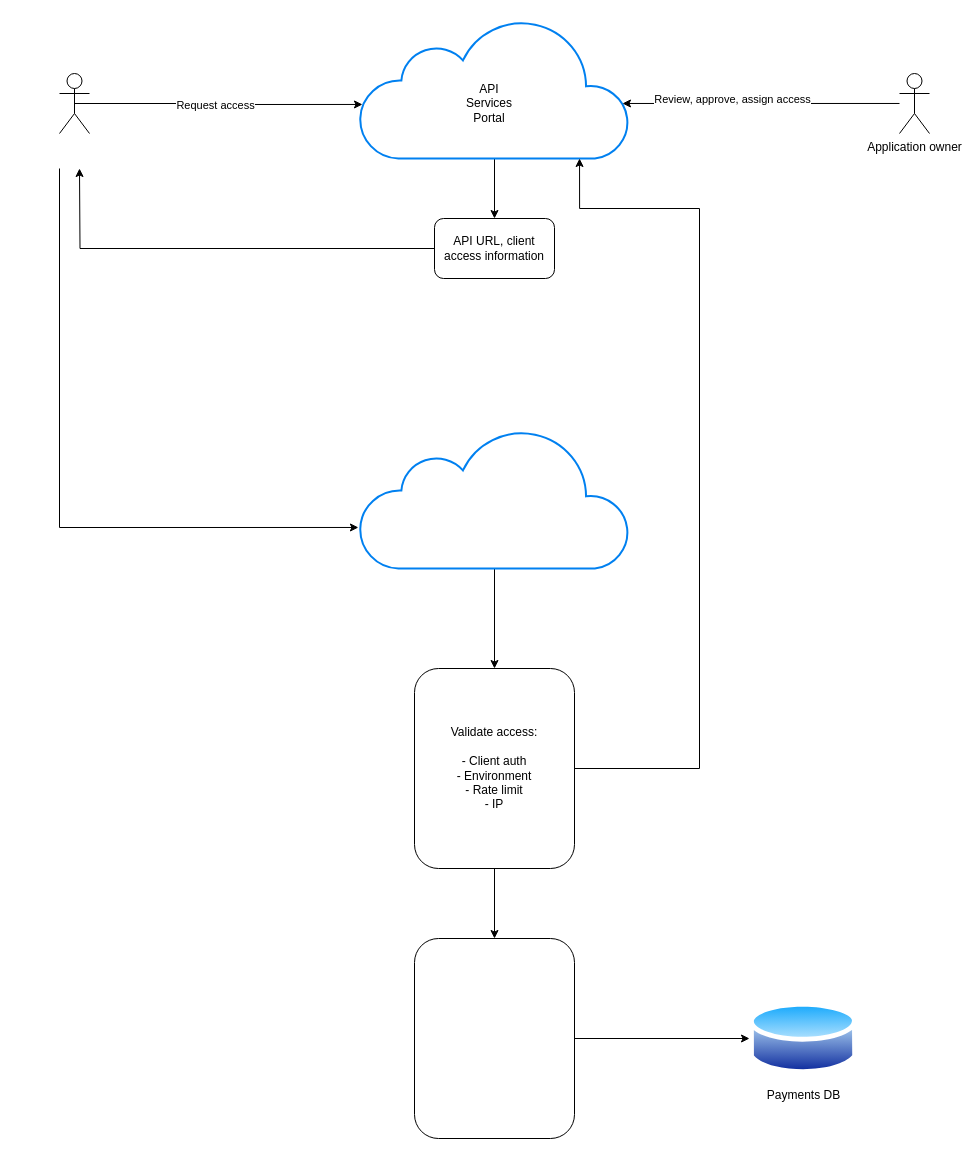
Image size: 979x1156. Some labels were removed from this diagram. Here are the shapes that lost their labels. From the top down, the box of each, then its label:
(58, 72, 90, 134): Application developer
(358, 427, 630, 569): Payments API
(414, 938, 574, 1138): Validate access: - Role permissions
